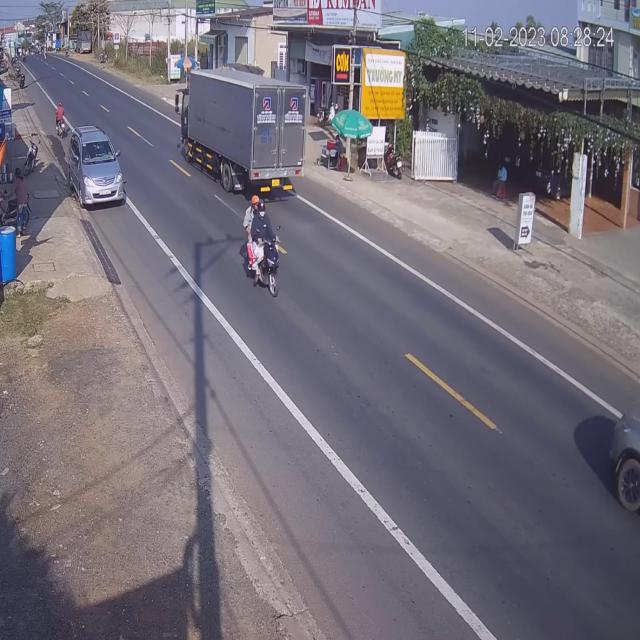car: (68, 125, 125, 208), (608, 379, 640, 523)
motorbike: (244, 202, 283, 298), (57, 101, 69, 135)
truck: (176, 67, 304, 195)
